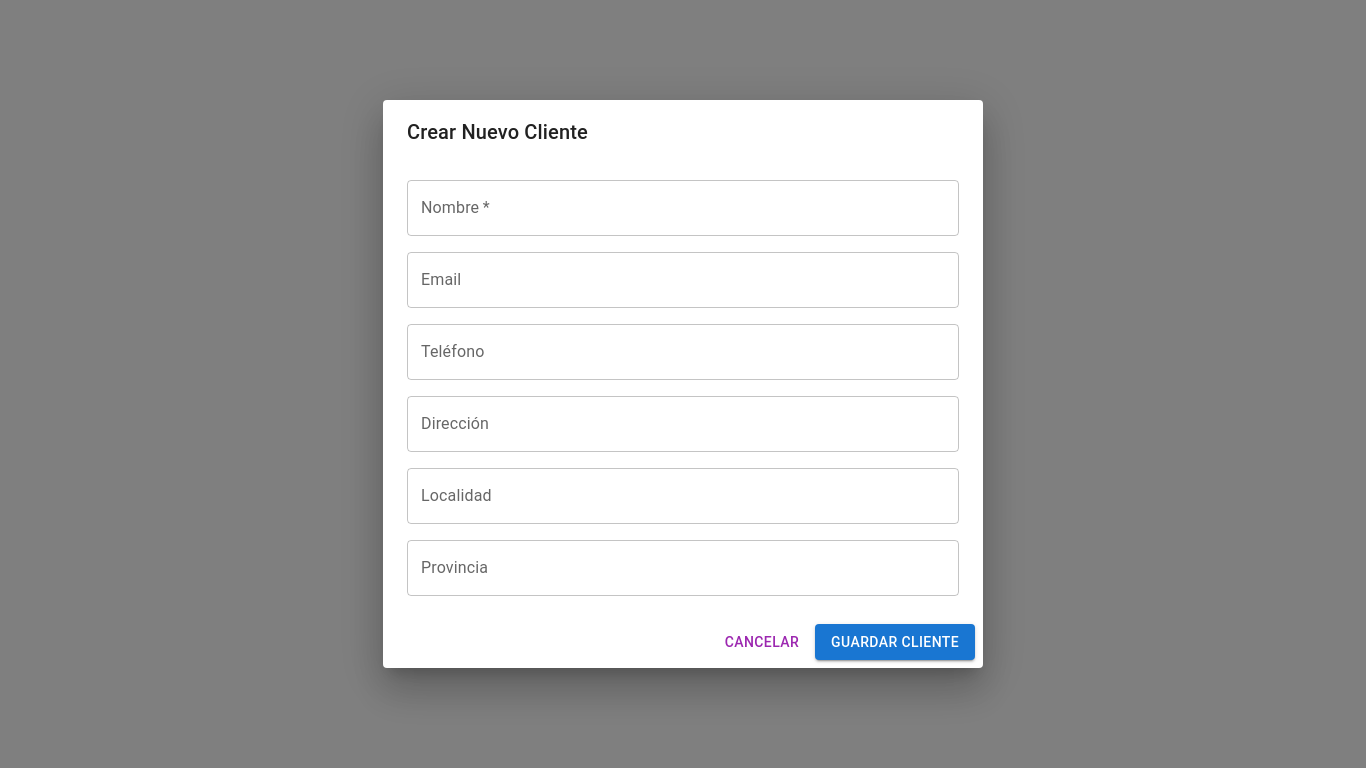
NuevoCliente › muestra error 400 si la API devuelve mensaje de error
Type "Juan Pérez" into the field labelled "Nombre *" at [683, 208], box [407,180,959,236]
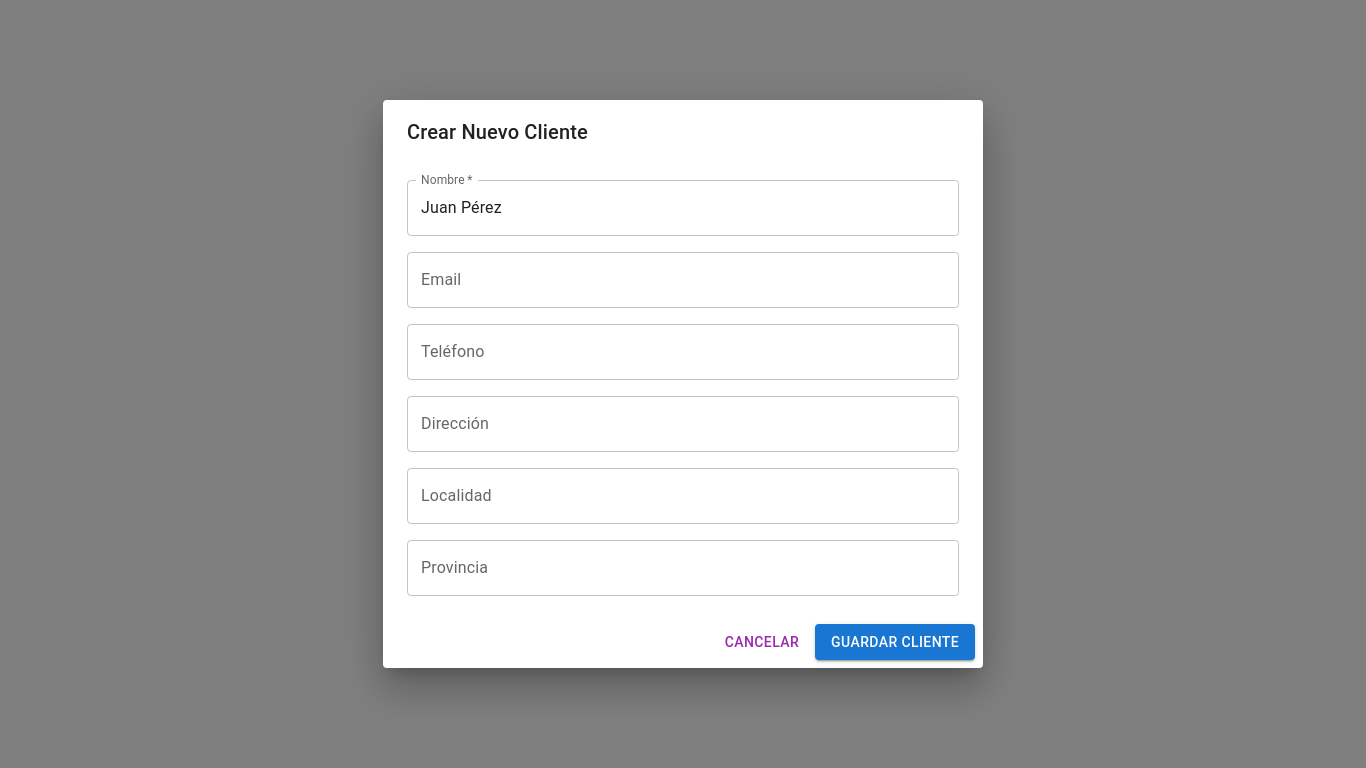
Click the button "Guardar Cliente" at [895, 642], box [815,624,975,660]
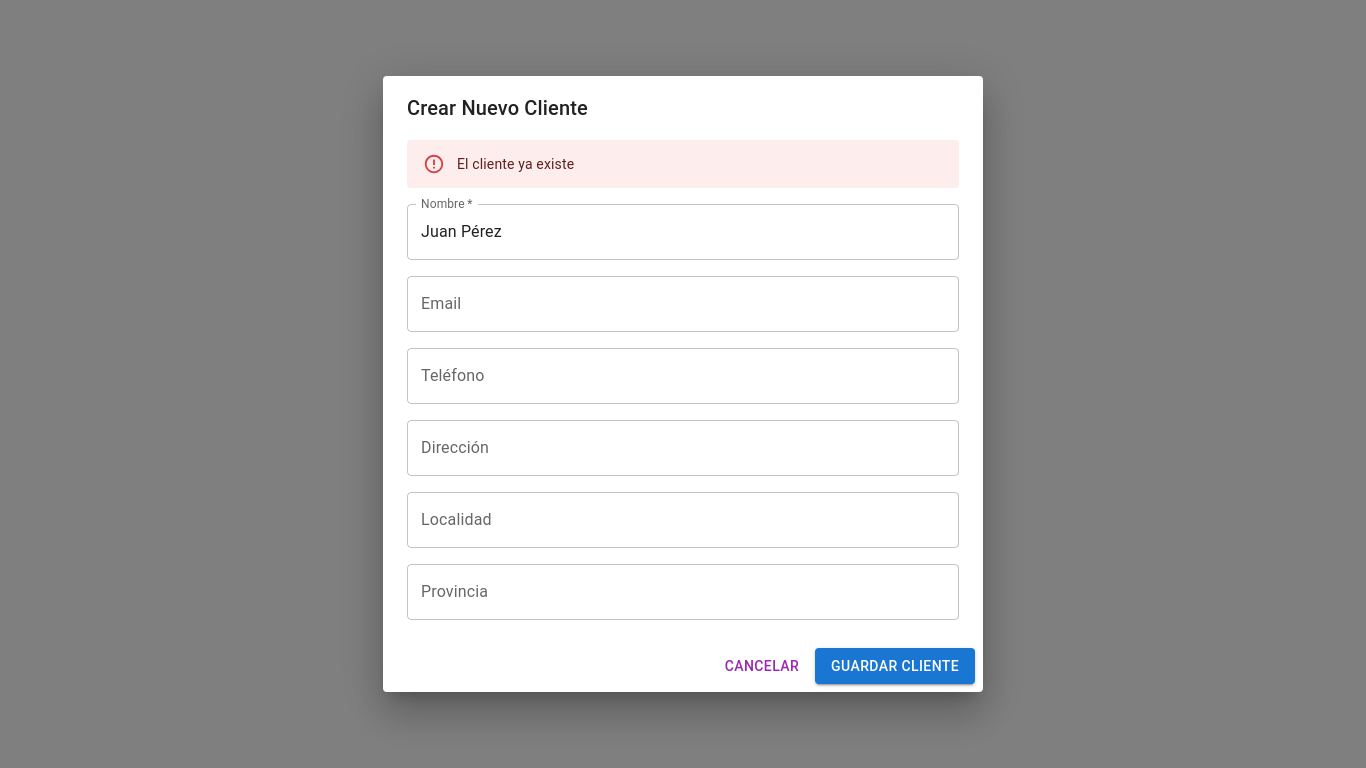
Expected: the text "El cliente ya existe" is shown, [457,156,574,172]
